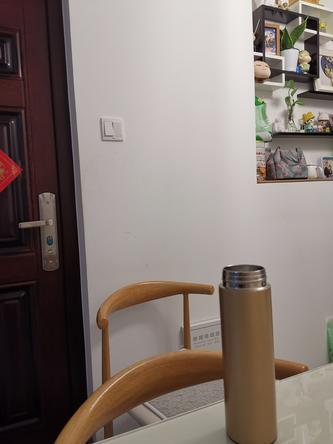switch: (112, 121, 123, 139), (104, 117, 112, 136)
